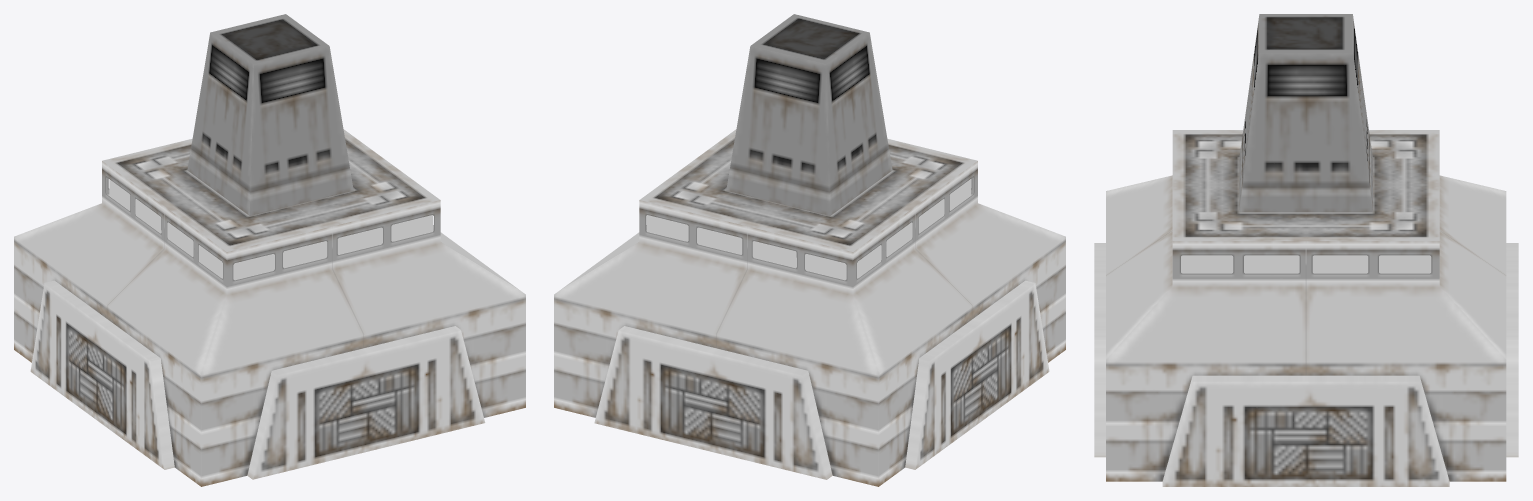
File: hub.glb
3 renders of one model, left to right at view 1: azimuth 30°, elevation 25°; view 2: azimuth 150°, elevation 25°; view 3: azimuth 270°, elevation 25°, orthographic. The views are drawn at different scales.
Parts seen in each view (by area): view 1: Hub, LitWin_Hub; view 2: Hub, LitWin_Hub; view 3: Hub, LitWin_Hub.
Boxes of the visible parts, box(x1,y1,x2,y2) form: Hub: box(14, 14, 525, 486); LitWin_Hub: box(109, 179, 433, 280); Hub: box(554, 14, 1065, 486); LitWin_Hub: box(646, 179, 970, 280); Hub: box(1094, 14, 1518, 486); LitWin_Hub: box(1181, 255, 1431, 273).
Bounding box in the file's own units: 25.53 × 24 × 25.44.
1 material, 1 textured.
